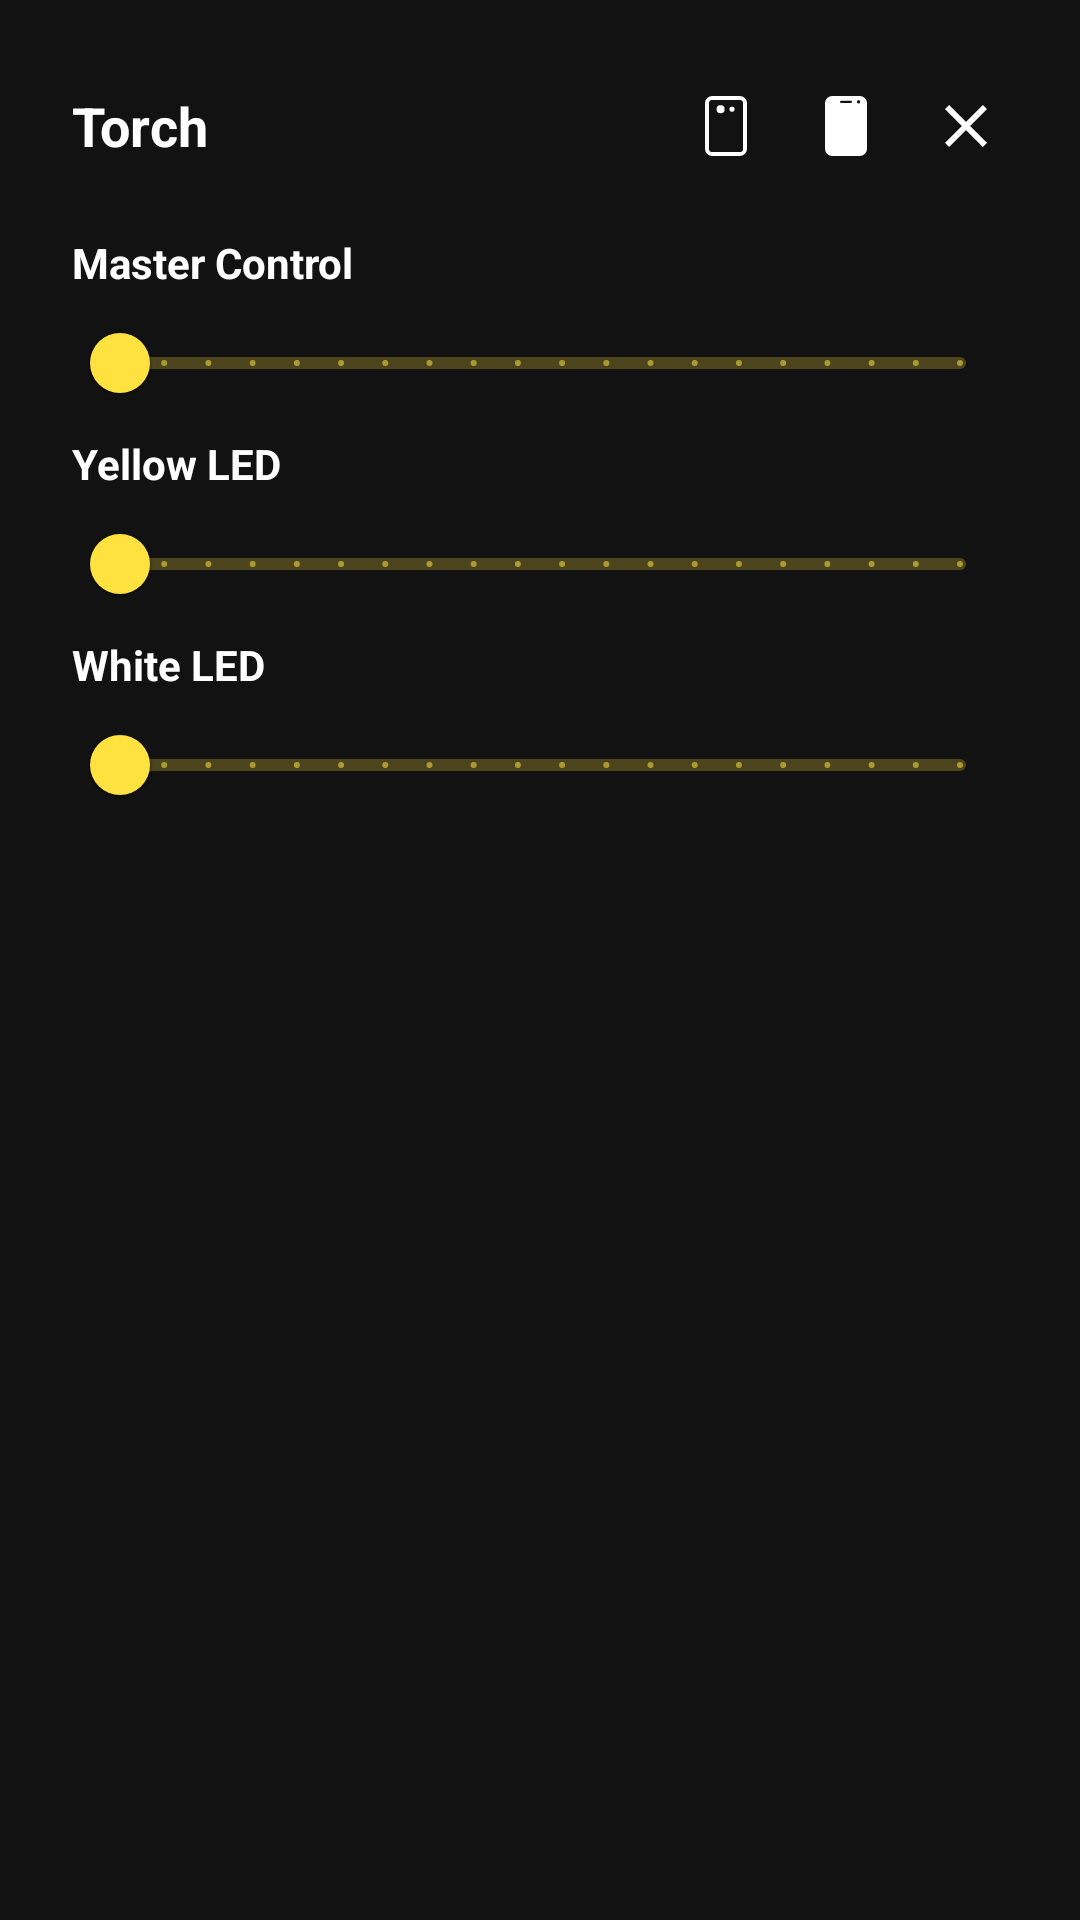

Where icons sit on this 1080x1920 app screen, as (x1, y1, x2, y2):
close: (945, 105, 987, 147)
flash front: (825, 96, 867, 156)
flash rear: (705, 96, 747, 156)
